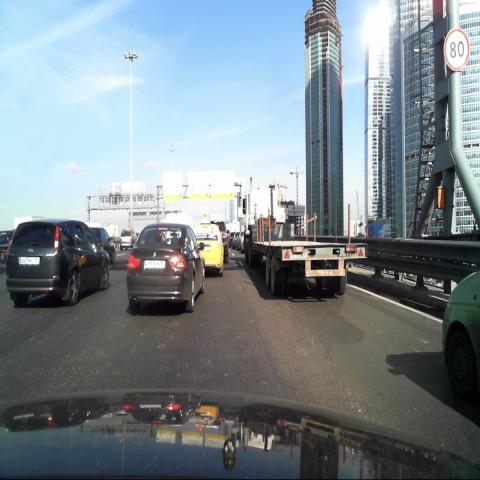3_24: (444, 26, 472, 72)
